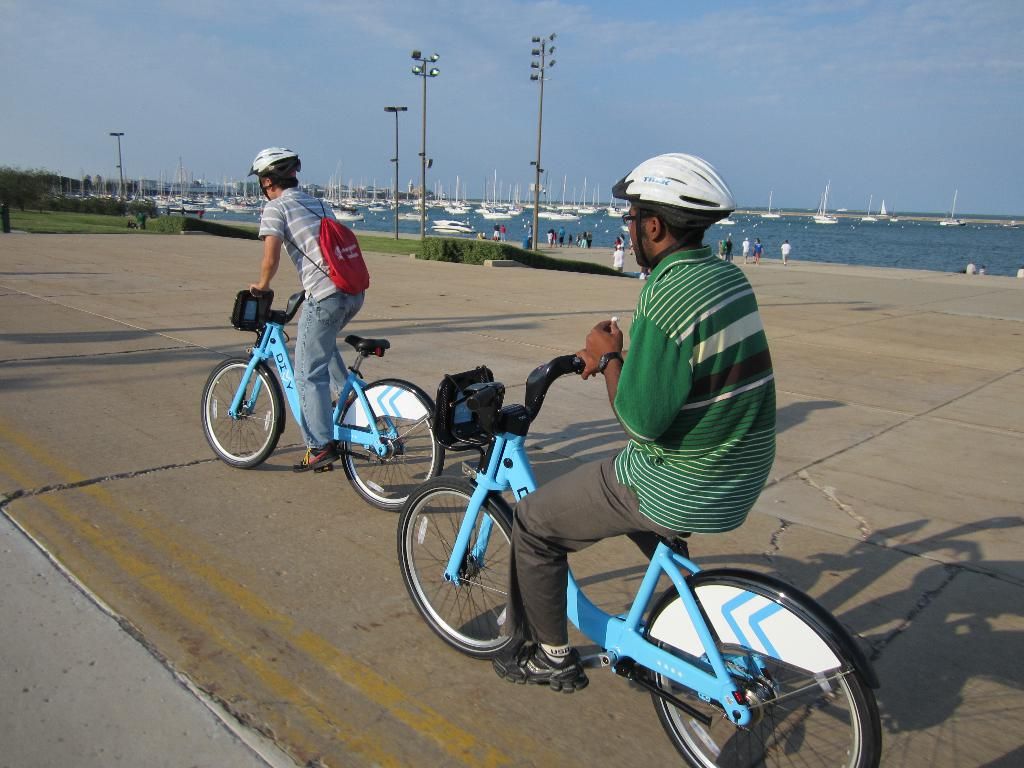Bike_away: (399, 356, 886, 765), (202, 291, 441, 514)
